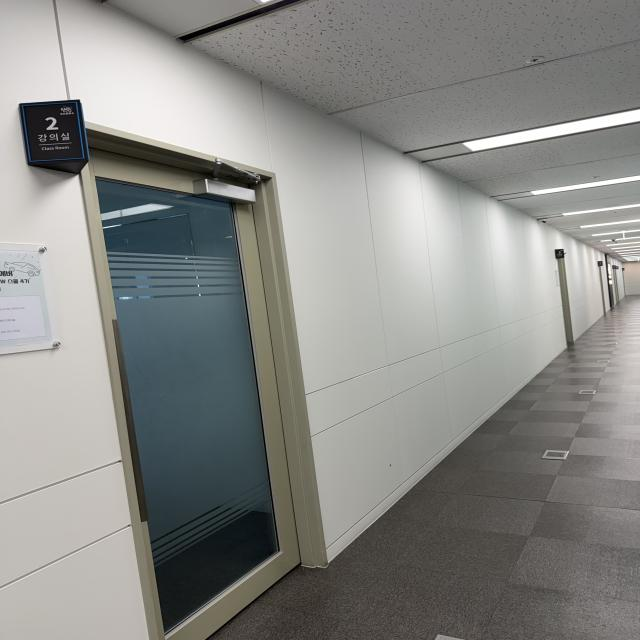rear_door: (20, 101, 86, 162)
